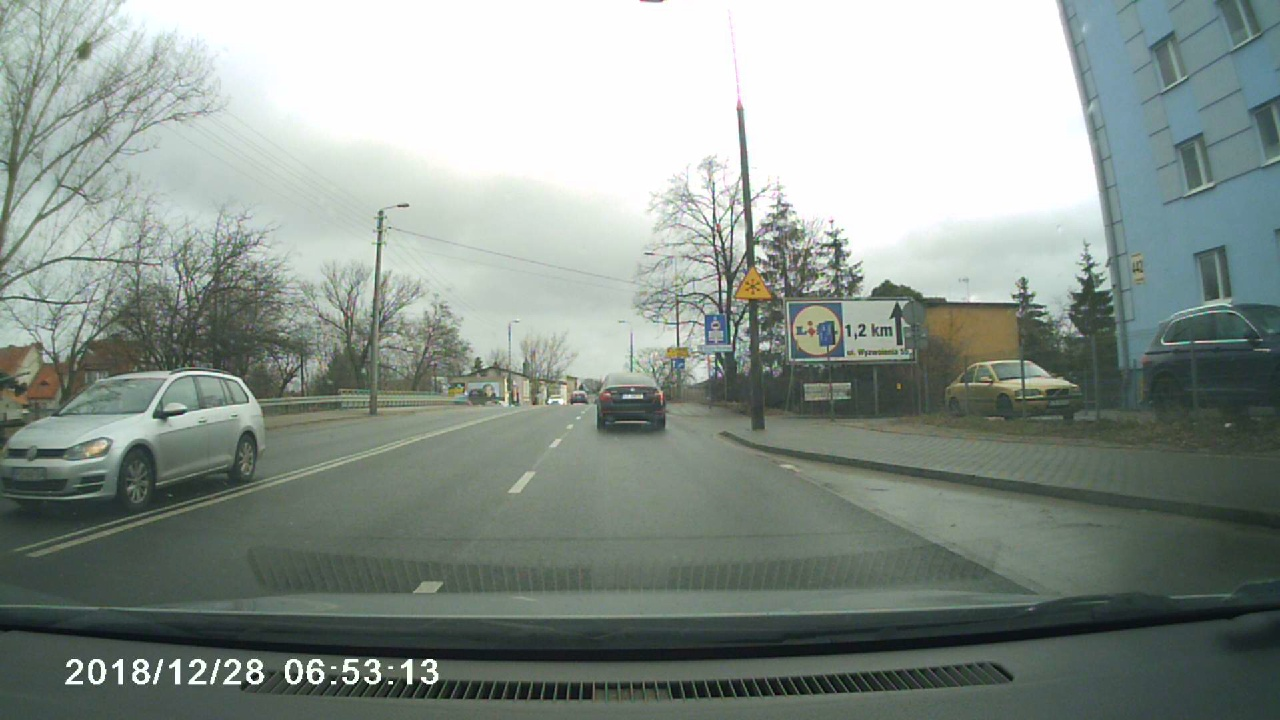A32: (733, 259, 778, 304)
